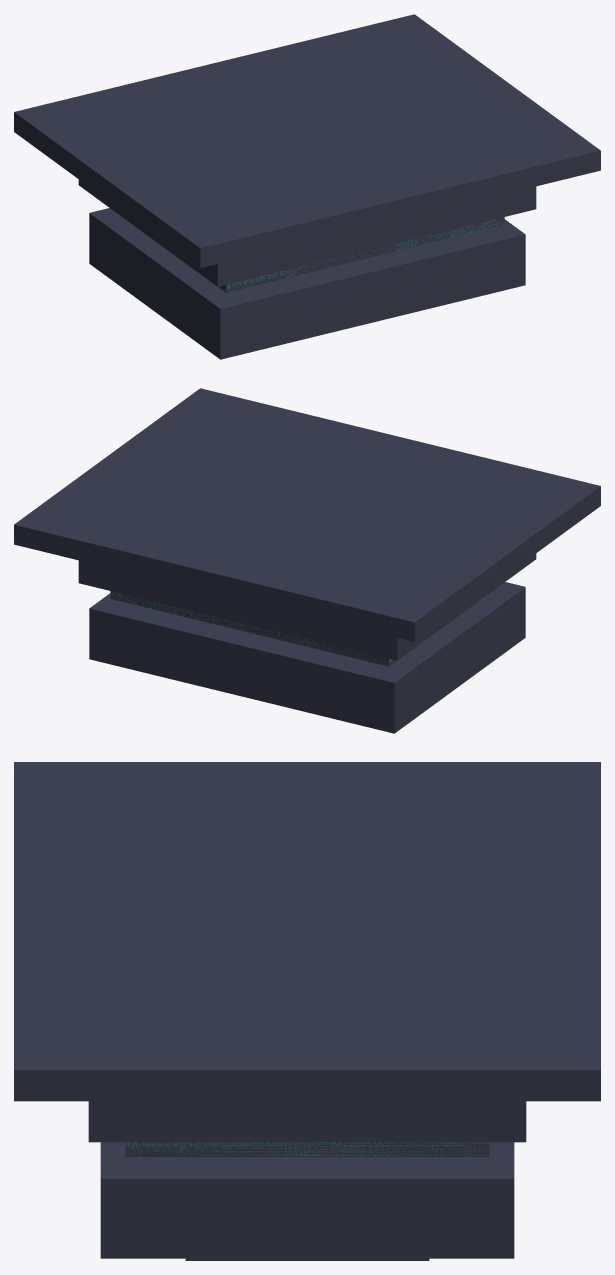
The model's file is Table2.fbx.
The picture shows the model from 3 angles, top to bottom: view 1: azimuth 30°, elevation 25°; view 2: azimuth 150°, elevation 25°; view 3: azimuth 270°, elevation 25°; orthographic projection. The views are drawn at different scales.
Visible parts, largest first — view 1: Cube.014; view 2: Cube.014; view 3: Cube.014.
Boxes of the visible parts, x1,y1,x2,y2 form: Cube.014: (14, 14, 600, 359); Cube.014: (14, 388, 600, 733); Cube.014: (14, 762, 600, 1260).
Size of the model in its own units: 2.41 by 0.9621 by 1.94.
